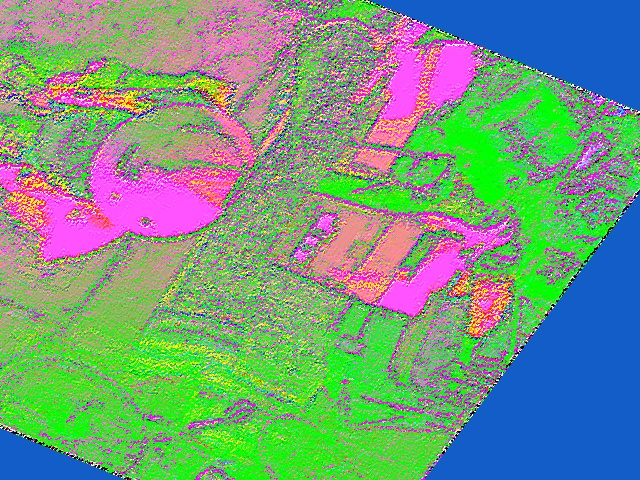one: (220, 166, 261, 213)
